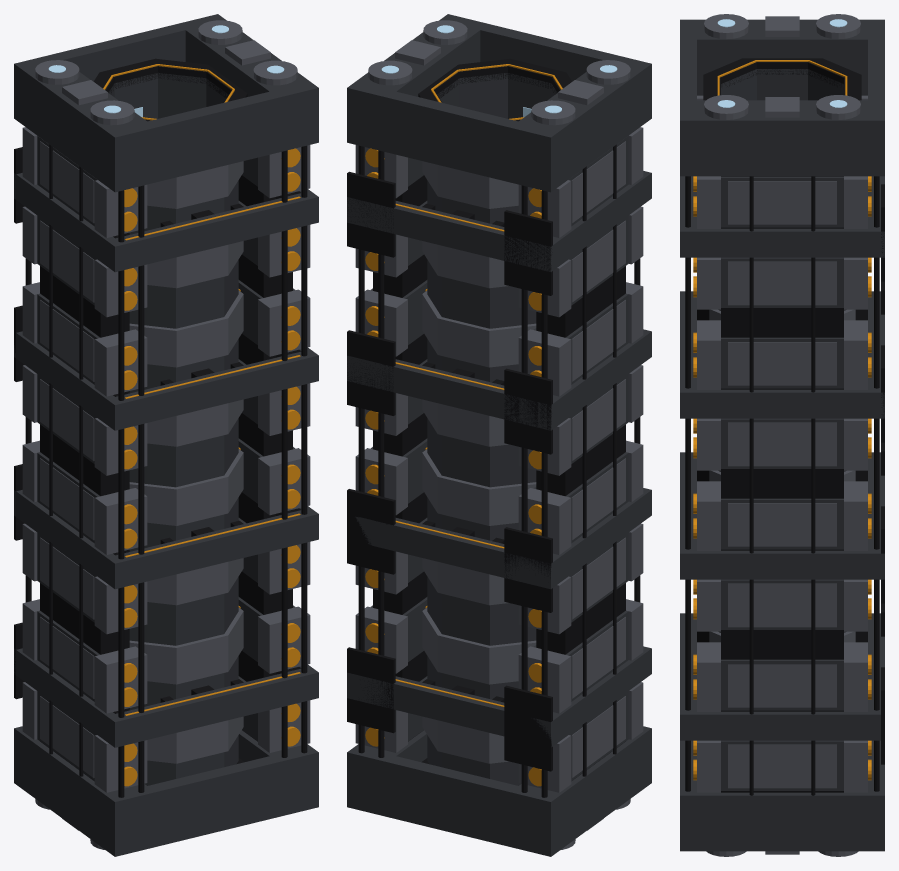
File: acceleration_gate.obj
3 renders of one model, left to right at view 1: azimuth 30°, elevation 25°; view 2: azimuth 150°, elevation 25°; view 3: azimuth 270°, elevation 25°, orthographic.
Visible parts, largest first — view 1: AG_Corridor__Corridor_Ribs, AG_Corridor__Corridor_Liner, AG_Utilities__Cooling_Pipes, AG_EndBlocks__EndBlock_N_Crossbeams, AG_Frames__Frame_1_Beams, AG_Frames__Frame_2_Beams, AG_Frames__Frame_4_Beams, AG_Frames__Frame_3_Beams, AG_EndBlocks__EndBlock_NL, AG_EndBlocks__EndBlock_SL, AG_EndBlocks__EndBlock_S_Crossbeams, AG_Rails__Rail_L (+41 smaller); view 2: AG_Corridor__Corridor_Ribs, AG_Corridor__Corridor_Liner, AG_EndBlocks__EndBlock_N_Crossbeams, AG_EndBlocks__EndBlock_NL, AG_Utilities__Cooling_Pipes, AG_Frames__Frame_4_Beams, AG_Frames__Frame_3_Beams, AG_Frames__Frame_2_Beams, AG_EndBlocks__EndBlock_SL, AG_Frames__Frame_1_Beams, AG_EndBlocks__EndBlock_S_Crossbeams, AG_Frames__Frame_1_Feet (+45 smaller); view 3: AG_EndBlocks__EndBlock_NR, AG_EndBlocks__EndBlock_SR, AG_Rails__Rail_R, AG_Frames__Frame_2_Beams, AG_Frames__Frame_3_Beams, AG_Frames__Frame_1_Beams, AG_Frames__Frame_4_Beams, AG_EndBlocks__EndBlock_NL, AG_Utilities__Cooling_Pipes, AG_Utilities__Power_Conduits, AG_Modules__Module_09_Armor, AG_Modules__Module_11_Armor (+37 smaller).
Boxes of the visible parts, x1,y1,x2,y2 form: AG_Corridor__Corridor_Ribs: (129,161,243,763); AG_Corridor__Corridor_Liner: (108,72,238,785); AG_Utilities__Cooling_Pipes: (25,145,307,797); AG_EndBlocks__EndBlock_N_Crossbeams: (55,24,277,182); AG_Frames__Frame_1_Beams: (14,648,318,747); AG_Frames__Frame_2_Beams: (14,490,318,589); AG_Frames__Frame_4_Beams: (14,173,318,272); AG_Frames__Frame_3_Beams: (14,331,318,430); AG_EndBlocks__EndBlock_NL: (14,54,155,192); AG_EndBlocks__EndBlock_SL: (14,726,155,856); AG_EndBlocks__EndBlock_S_Crossbeams: (148,756,277,846); AG_Rails__Rail_L: (40,232,129,780); AG_Corridor__Corridor_Ribs: (422,161,536,763); AG_Corridor__Corridor_Liner: (427,73,557,785); AG_EndBlocks__EndBlock_N_Crossbeams: (388,24,610,182); AG_EndBlocks__EndBlock_NL: (510,54,651,192); AG_Utilities__Cooling_Pipes: (358,145,640,797); AG_Frames__Frame_4_Beams: (347,171,651,271); AG_Frames__Frame_3_Beams: (347,329,651,430); AG_Frames__Frame_2_Beams: (355,488,651,589); AG_EndBlocks__EndBlock_SL: (510,726,651,856); AG_Frames__Frame_1_Beams: (347,646,651,746); AG_EndBlocks__EndBlock_S_Crossbeams: (388,756,517,846); AG_Frames__Frame_1_Feet: (347,647,552,771); AG_EndBlocks__EndBlock_NR: (680,100,884,176); AG_EndBlocks__EndBlock_SR: (680,775,884,851); AG_Rails__Rail_R: (721,176,843,792); AG_Frames__Frame_2_Beams: (680,452,884,579); AG_Frames__Frame_3_Beams: (680,291,884,418); AG_Frames__Frame_1_Beams: (680,613,884,740); AG_Frames__Frame_4_Beams: (680,176,884,257); AG_EndBlocks__EndBlock_NL: (680,19,884,95); AG_Utilities__Cooling_Pipes: (685,176,879,791); AG_Utilities__Power_Conduits: (749,176,815,795); AG_Modules__Module_09_Armor: (728,744,836,788); AG_Modules__Module_11_Armor: (728,583,836,627).
Bounding box in the file's own units: 3500 × 12020 × 3000.
